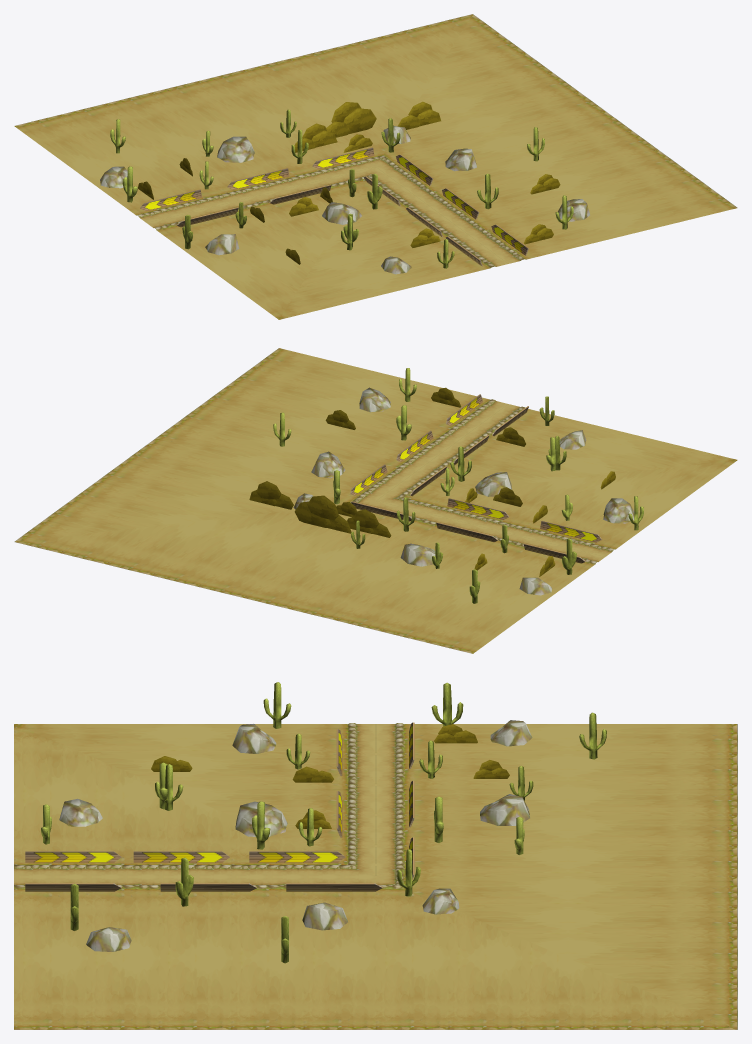
File: DesertRoad01_Left.FBX
3 views of the same model, one above another, from view 1: azimuth 30°, elevation 25°; view 2: azimuth 150°, elevation 25°; view 3: azimuth 270°, elevation 25° (orthographic). The views are drawn at different scales.
Parts seen in each view (by area): view 1: Road, Bush (×3), Stone (×4), Fence (×3); view 2: Road, Stone (×5), Bush (×3), Fence (×2); view 3: Road, Stone (×8), Fence (×6), Cactus (×2), Bush.
Boxes of the visible parts, x1,y1,x2,y2 form: Road: [14, 14, 737, 319]; Bush (×3): [294, 101, 440, 152]; Stone (×4): [205, 136, 476, 255]; Fence (×3): [140, 147, 374, 211]; Road: [14, 348, 737, 653]; Stone (×5): [311, 387, 634, 566]; Bush (×3): [249, 481, 391, 537]; Fence (×2): [447, 498, 602, 542]; Road: [14, 723, 737, 1029]; Stone (×8): [59, 720, 532, 951]; Fence (×6): [25, 851, 382, 891]; Cactus (×2): [263, 682, 463, 728]; Bush: [434, 724, 477, 743].
Size of the model in its own units: 10000 by 857 by 10000.
